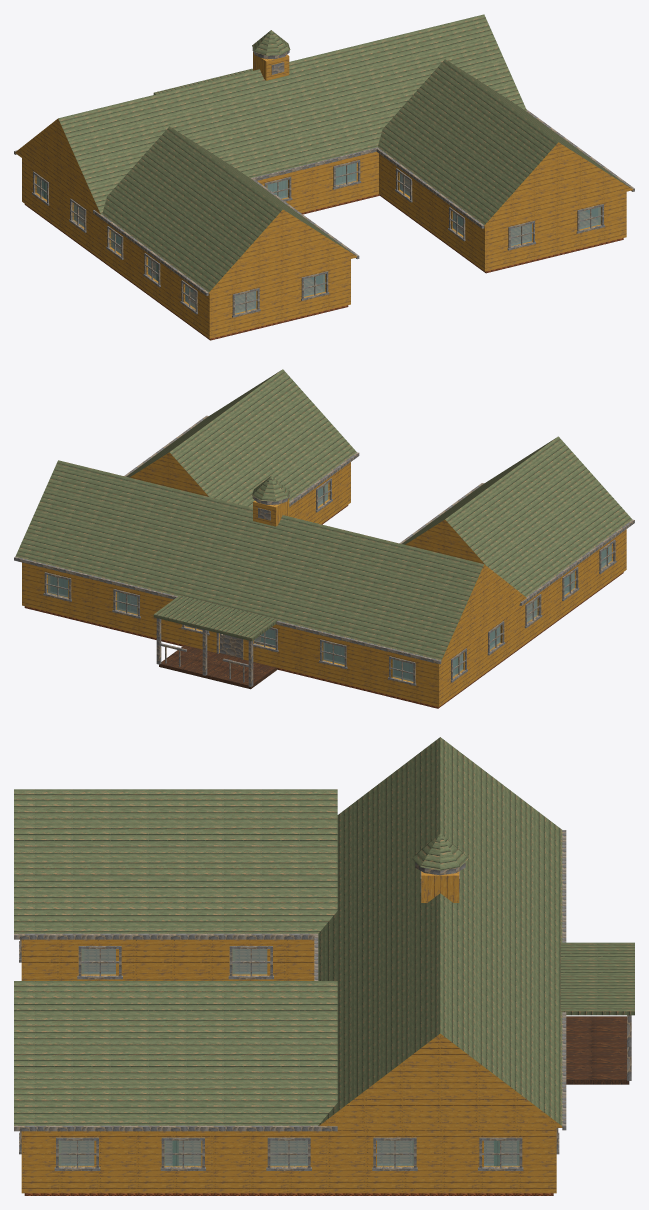
Rendered from eastfield-school.gltf.
The picture shows the model from 3 angles, top to bottom: view 1: azimuth 30°, elevation 25°; view 2: azimuth 150°, elevation 25°; view 3: azimuth 270°, elevation 25°; orthographic projection. The views are drawn at different scales.
Visible parts, largest first — view 1: roof-L0-slate, exterior-L0-brick, roof-L0-brick, trim-L0-dark-wood, glazing-L0-glass, roof-L0-dark-wood, floor-L0-floor, details-L0-slate, details-L0-brick, interior-L0-interior; view 2: roof-L0-slate, exterior-L0-brick, roof-L0-brick, trim-L0-dark-wood, roof-L0-dark-wood, porch-L0-slate, glazing-L0-glass, porch-L0-stone, floor-L0-floor, porch-L0-dark-wood, interior-L0-interior, details-L0-slate (+1 smaller); view 3: roof-L0-slate, exterior-L0-brick, roof-L0-brick, glazing-L0-glass, floor-L0-floor, roof-L0-dark-wood, porch-L0-slate, trim-L0-dark-wood, porch-L0-stone, details-L0-slate, details-L0-brick.
Part boxes in pixels (x1,y1,x2,y2): roof-L0-slate: (58,14,631,292); exterior-L0-brick: (22,151,626,338); roof-L0-brick: (15,118,632,293); trim-L0-dark-wood: (32,160,604,317); glazing-L0-glass: (36,163,600,313); roof-L0-dark-wood: (14,109,634,295); floor-L0-floor: (24,178,623,340); details-L0-slate: (252,30,290,55); details-L0-brick: (253,52,289,80); interior-L0-interior: (44,164,462,291); roof-L0-slate: (15,369,632,660); exterior-L0-brick: (22,462,626,706); roof-L0-brick: (130,452,526,661); trim-L0-dark-wood: (43,478,616,685); roof-L0-dark-wood: (14,415,634,664); porch-L0-slate: (153,595,278,641); glazing-L0-glass: (47,483,611,681); porch-L0-stone: (159,645,277,689); floor-L0-floor: (24,497,623,708); porch-L0-dark-wood: (156,618,275,686); interior-L0-interior: (51,574,571,678); details-L0-slate: (252,476,290,501); roof-L0-slate: (14,737,562,1125); exterior-L0-brick: (21,939,556,1193); roof-L0-brick: (319,1033,562,1127); glazing-L0-glass: (58,949,519,1166); floor-L0-floor: (24,949,553,1195); roof-L0-dark-wood: (14,830,566,1131); porch-L0-slate: (560,942,634,1015); trim-L0-dark-wood: (19,939,559,1170); porch-L0-stone: (566,1016,629,1084); details-L0-slate: (412,833,468,870); details-L0-brick: (421,871,459,902).
Bounding box in the file's own units: 18.66 × 6.4 × 16.43.
Materials: 8 (7 with a texture image).
